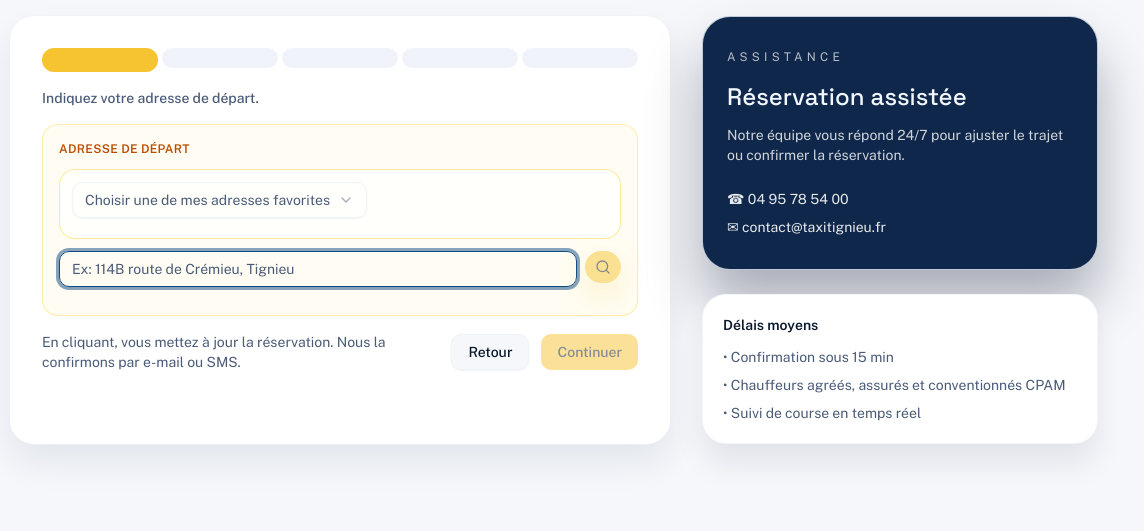
Test: ReservationWizard address flow › permet de rechercher et sélectionner une nouvelle adresse
This screenshot has width=1144, height=531.
Expected: the button "Continuer" is disabled, left=541, top=334, right=638, bottom=370
Step 1. Type "89 rue du travail 38230" into the field with placeholder "Ex: 114B route de Crémieu, Tignieu" → (318, 269), box left=59, top=251, right=577, bottom=287
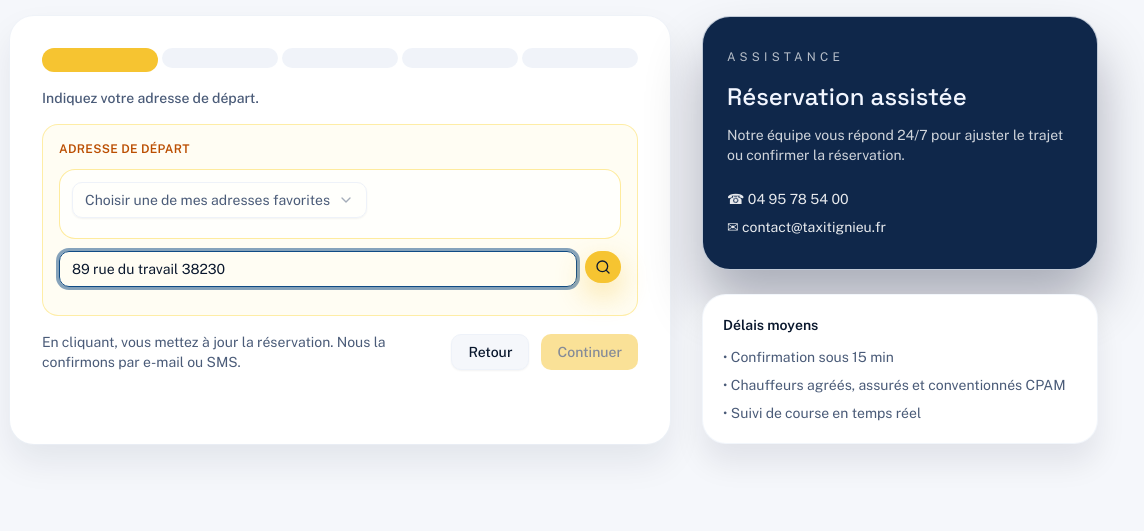
Step 2. Click the button named "Rechercher" → (603, 267), box left=585, top=251, right=621, bottom=283
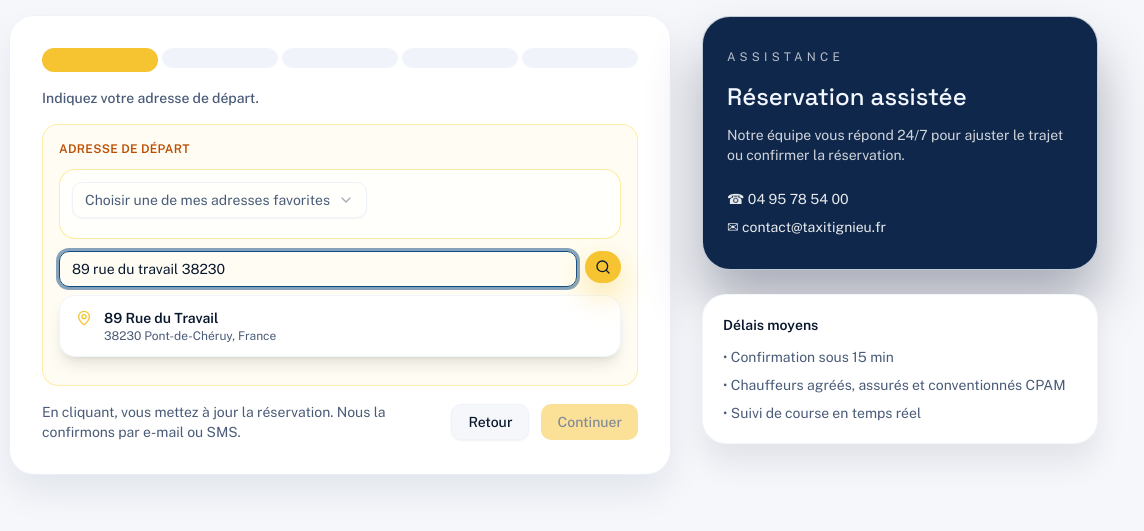
Expected: the text "89 Rue du Travail" is shown
Step 3. Click the text "89 Rue du Travail" → (161, 318), box left=104, top=310, right=218, bottom=326
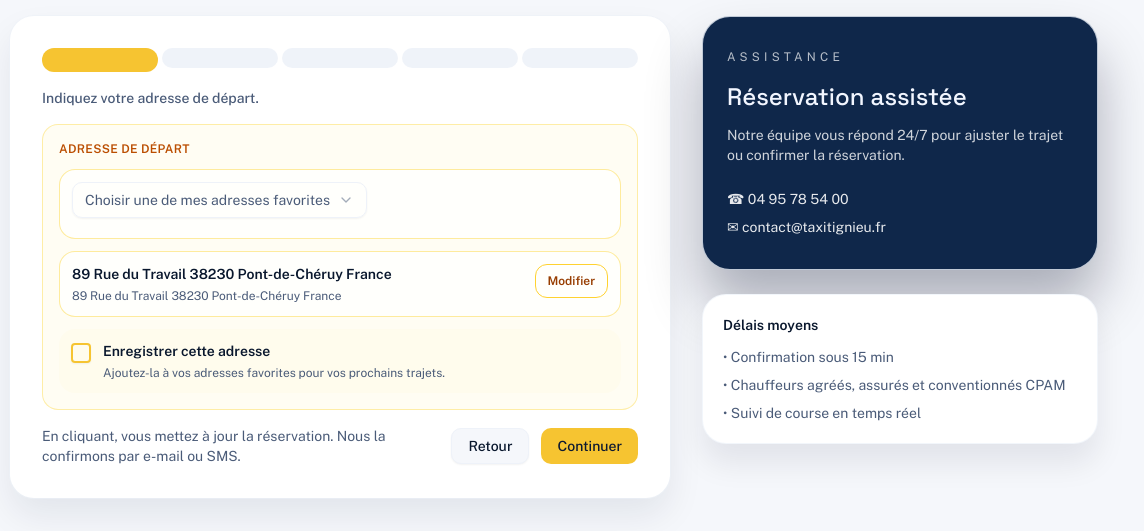
Expected: the 1st text "89 Rue du Travail 38230 Pont-de-Chéruy France" is shown, left=72, top=266, right=392, bottom=282
Expected: the button "Continuer" is enabled, left=541, top=428, right=638, bottom=464
